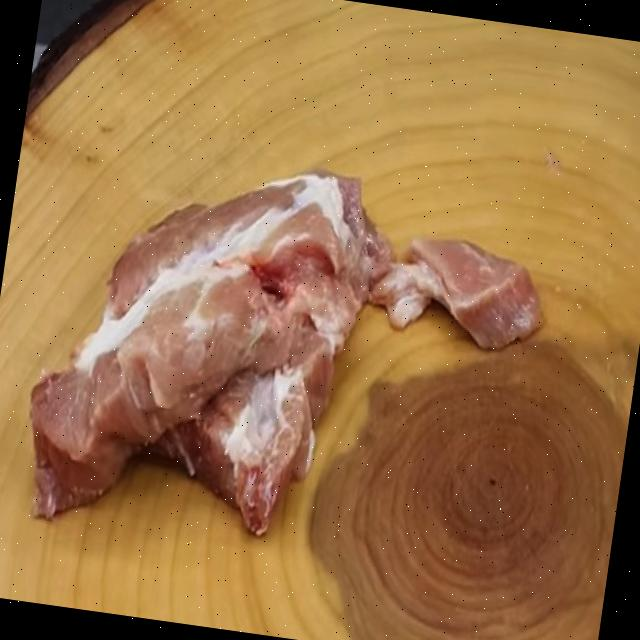meat: (7, 150, 542, 590)
